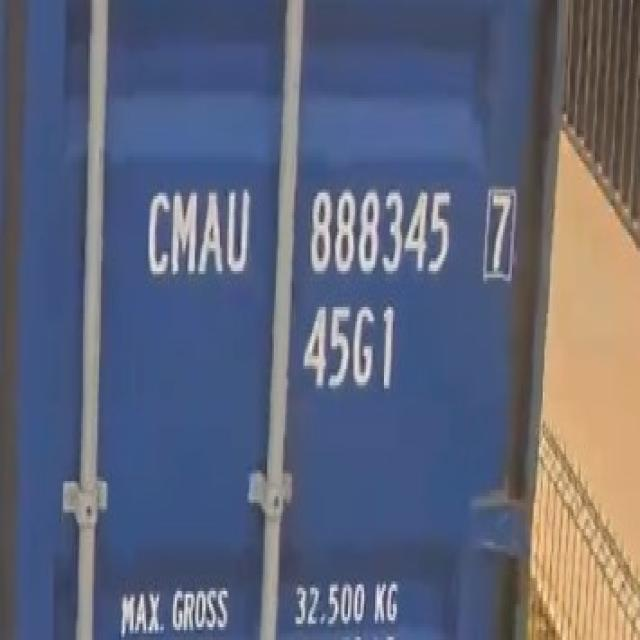dv: (478, 182, 518, 289)
owner: (143, 182, 258, 284)
serial: (304, 177, 454, 285)
size: (298, 298, 404, 400)
